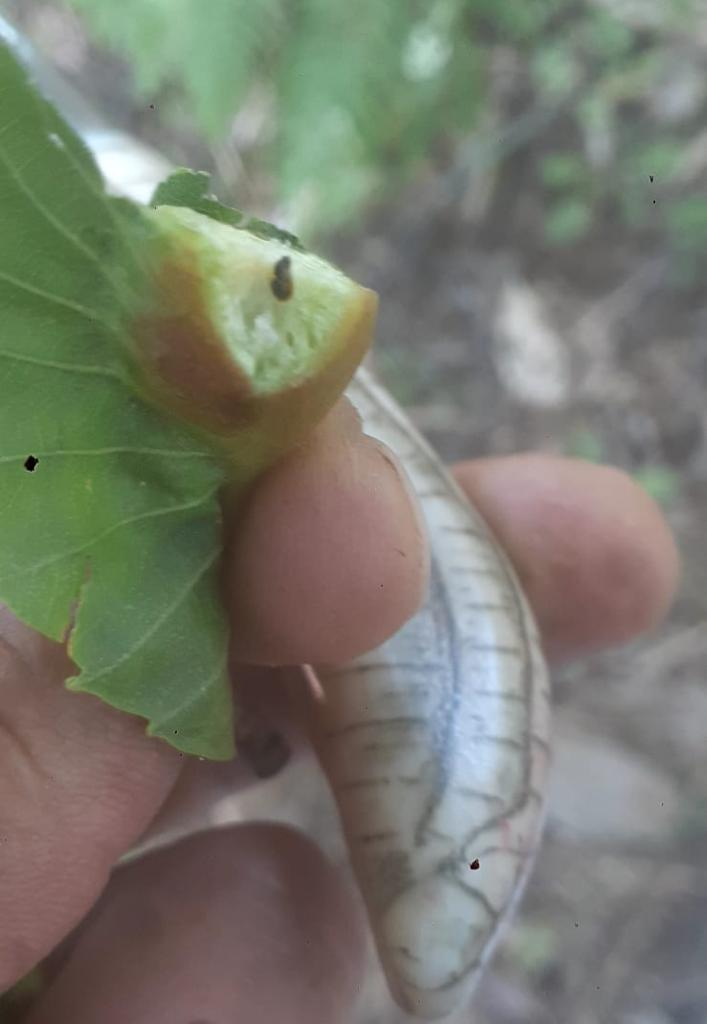galarisi: (135, 189, 359, 473)
